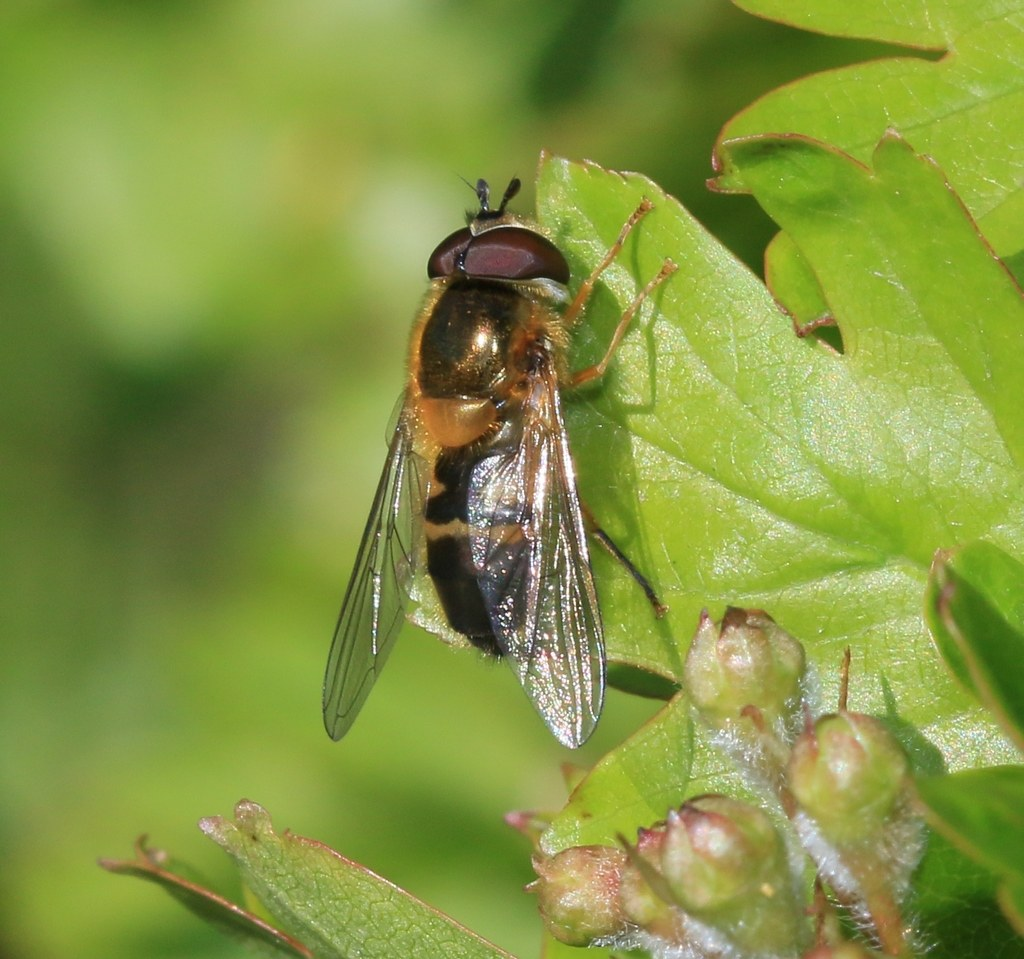bee: (314, 169, 674, 741)
